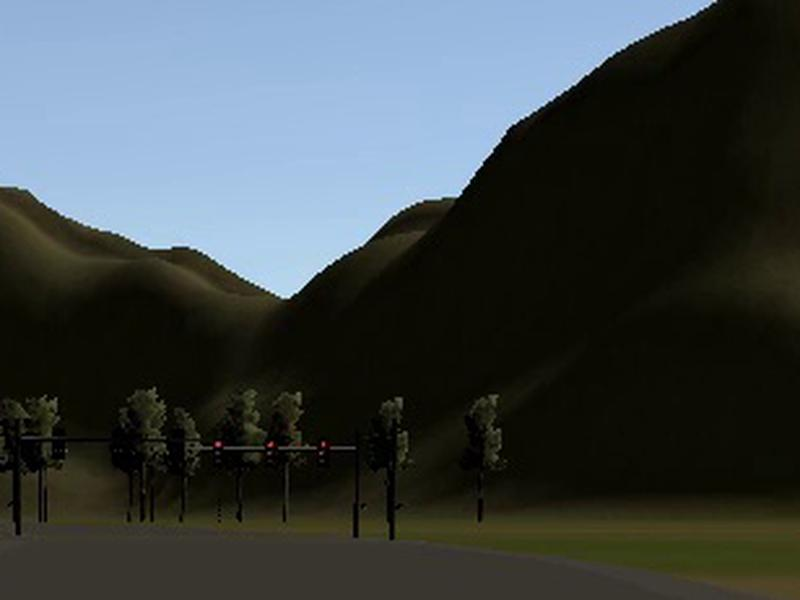Red: (314, 438, 330, 469), (261, 436, 277, 467), (209, 437, 225, 468)
